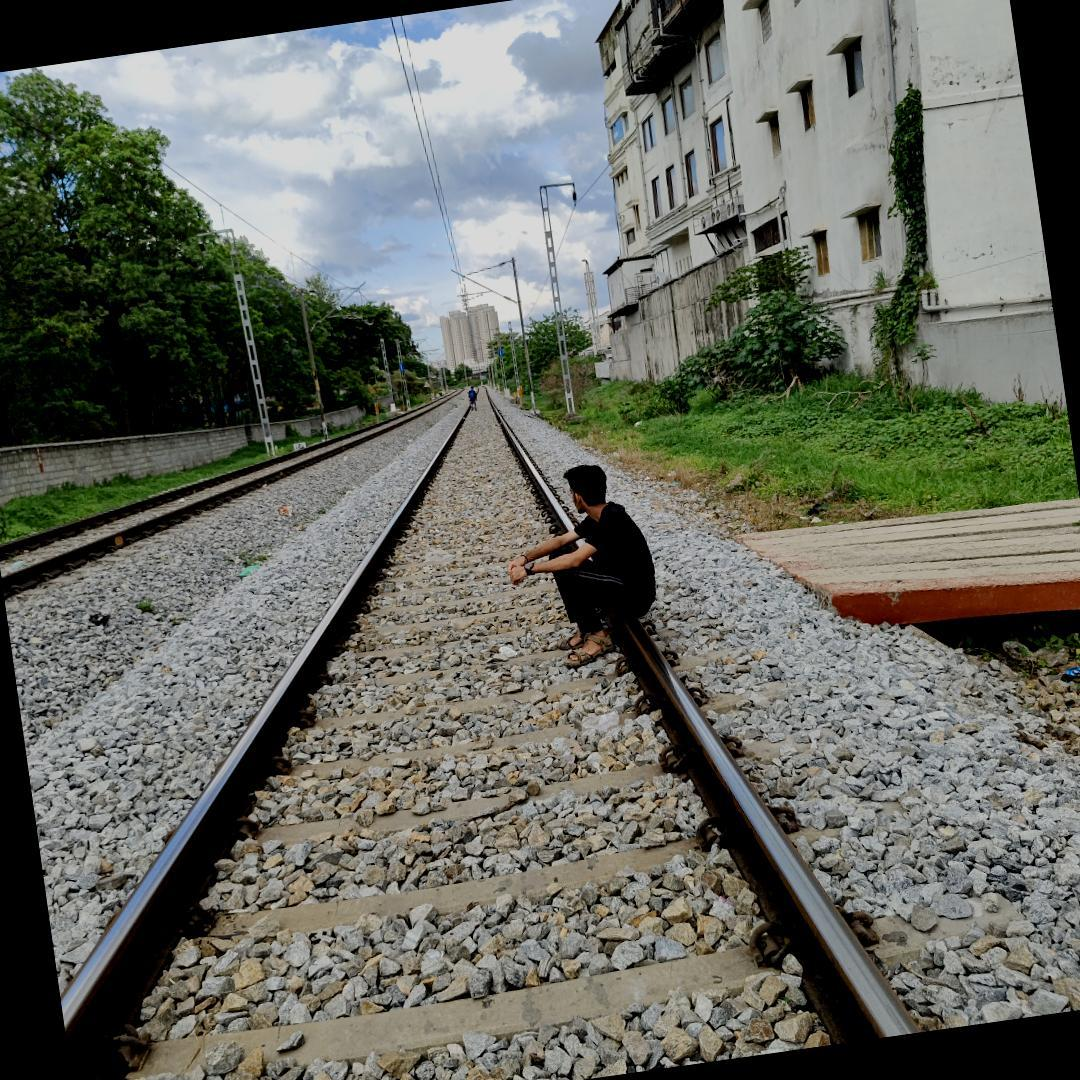sitting: (494, 434, 684, 681)
